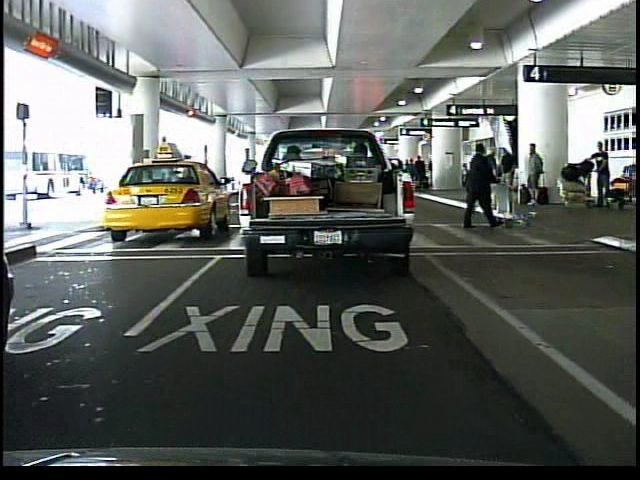person: (460, 143, 500, 234), (477, 146, 498, 220), (591, 139, 613, 208)
